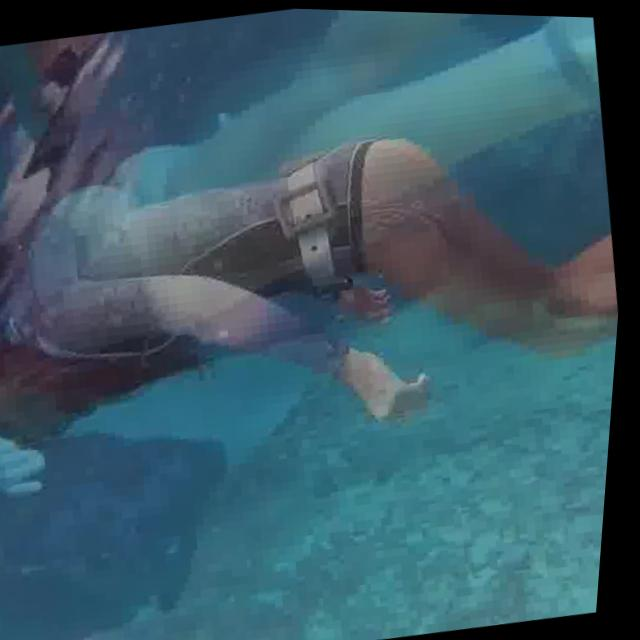human: (0, 79, 635, 477)
